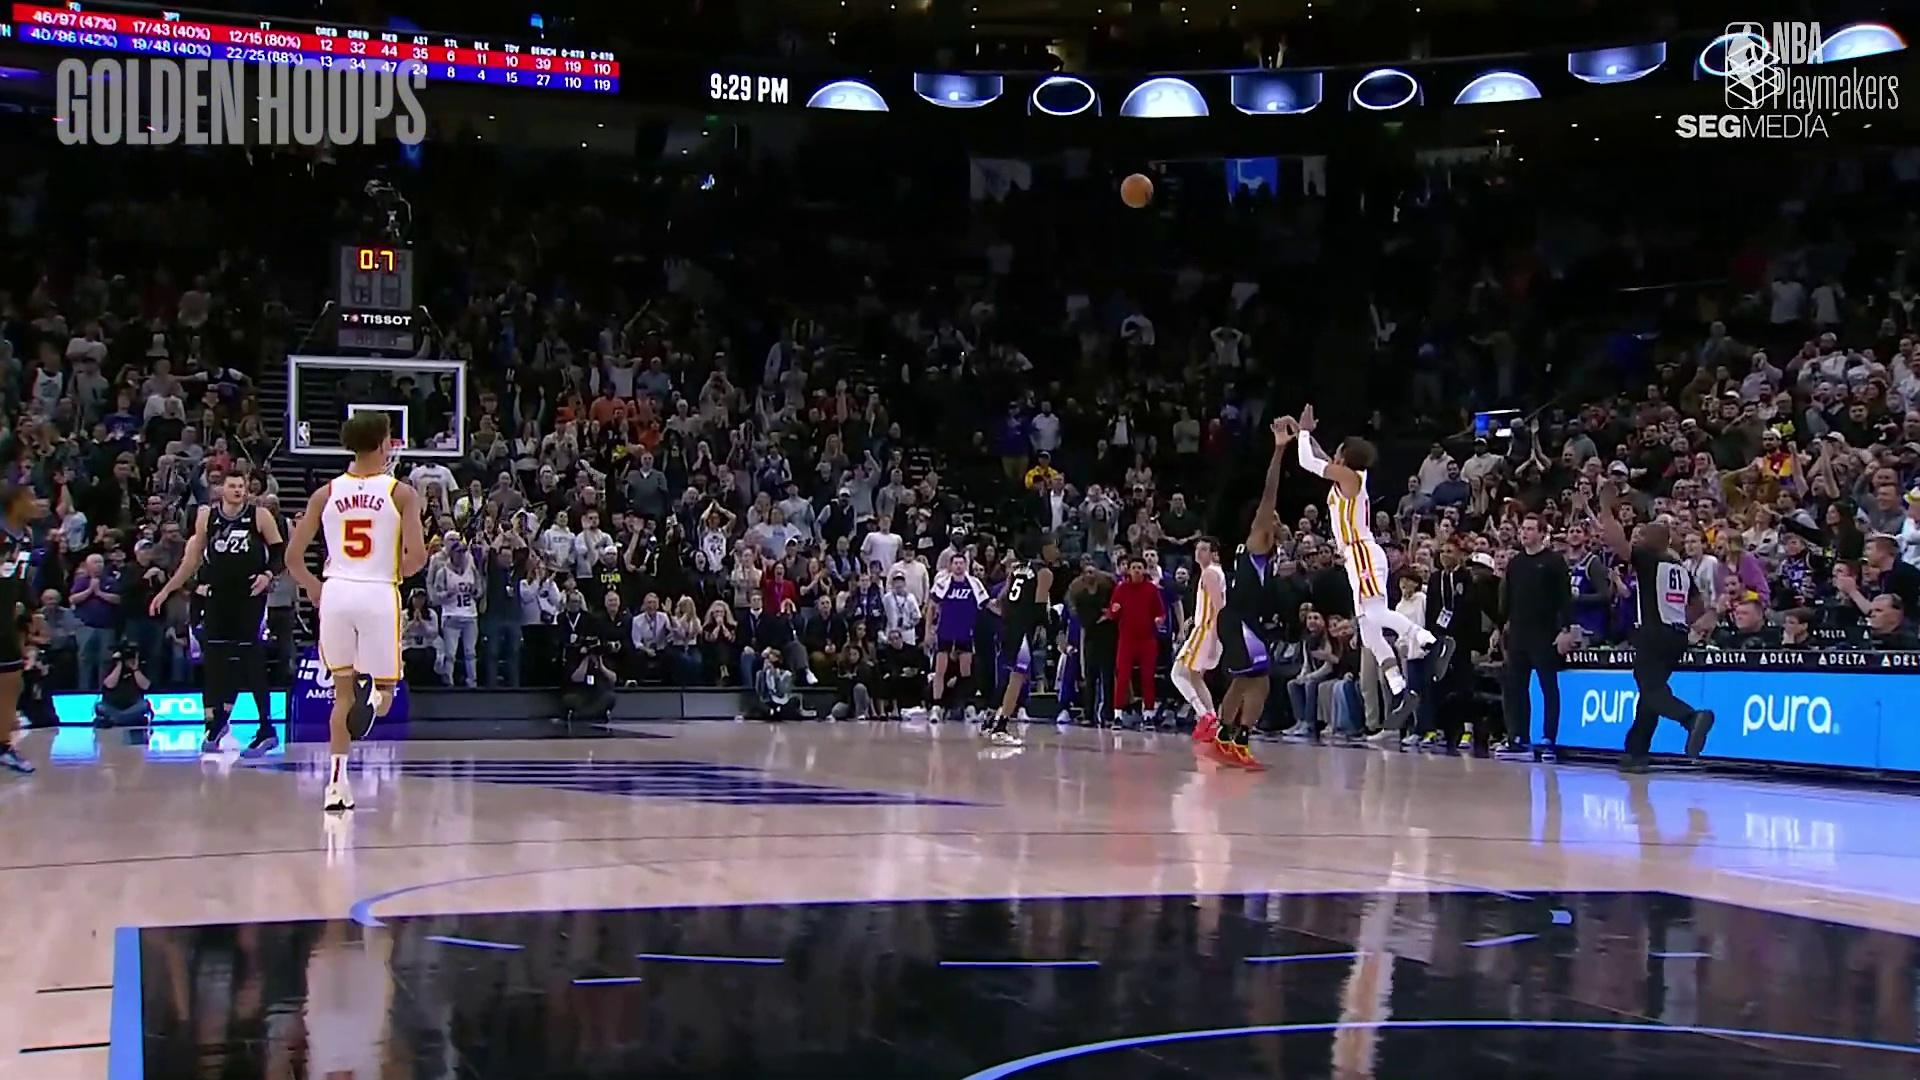ball: (1112, 169, 1156, 218)
